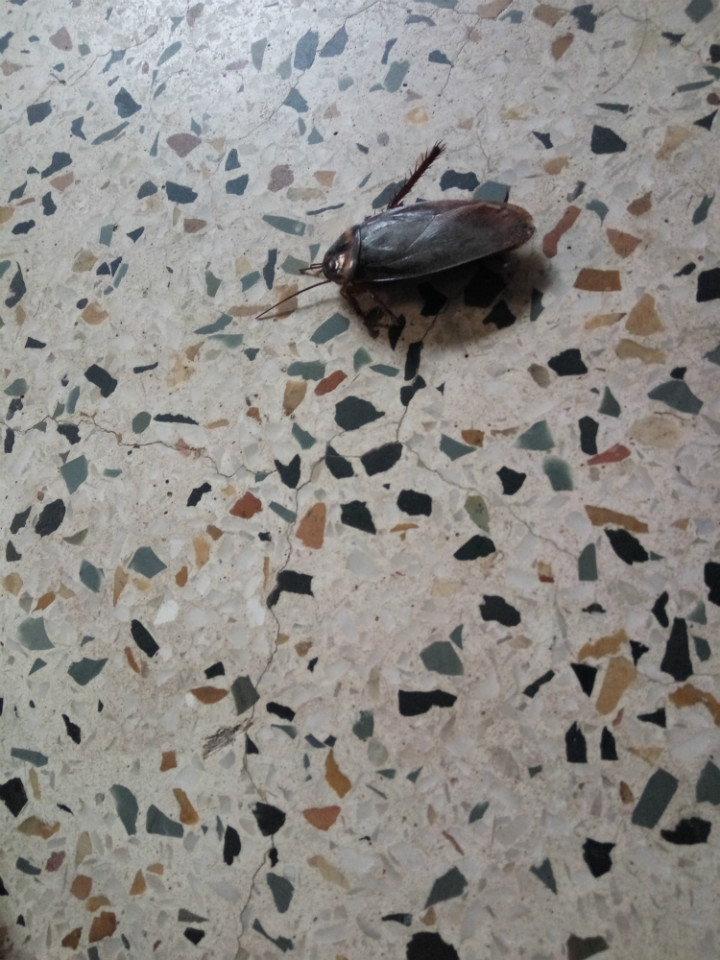cockroach: (165, 125, 607, 387)
